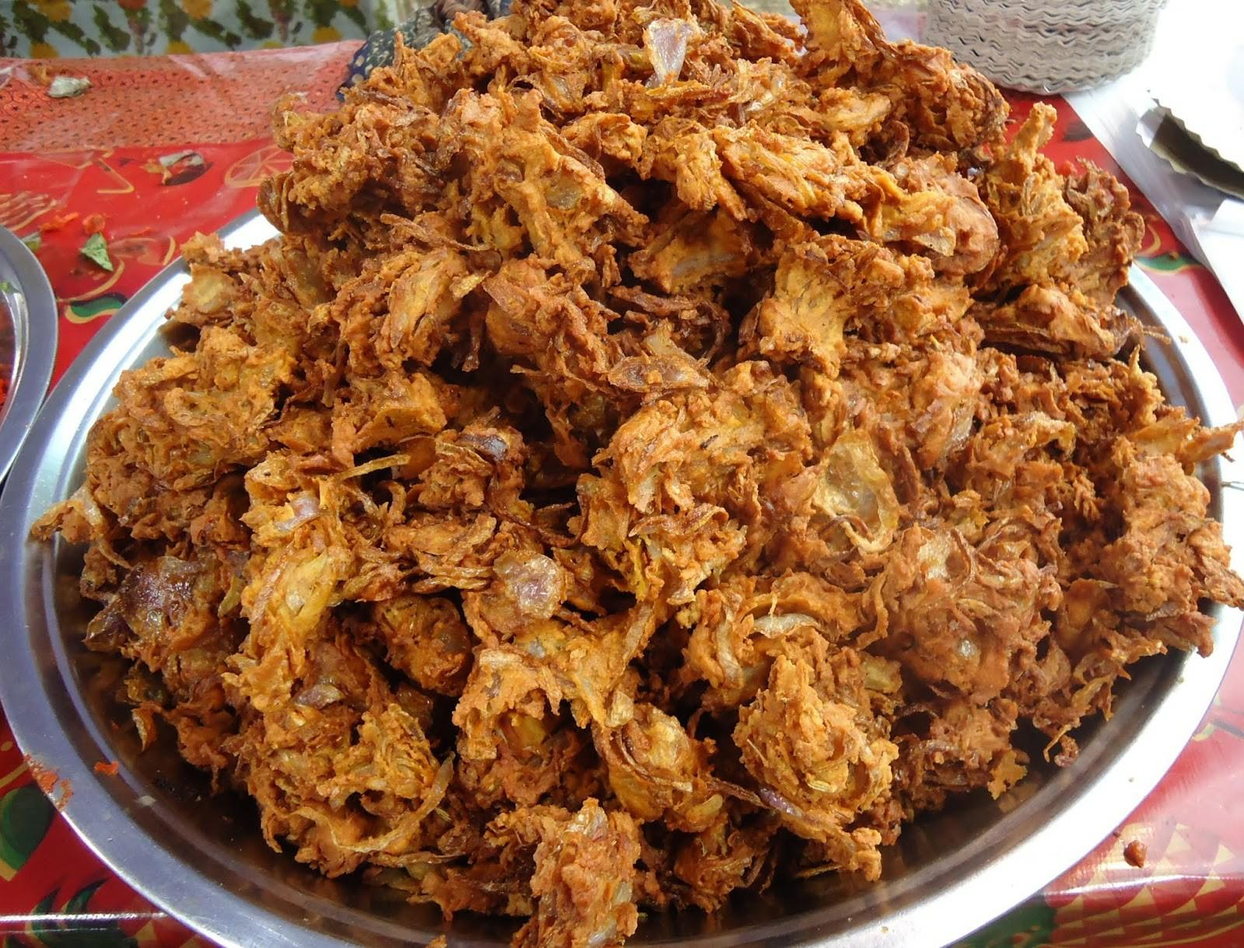OnionPakoda: (33, 0, 1244, 948)
